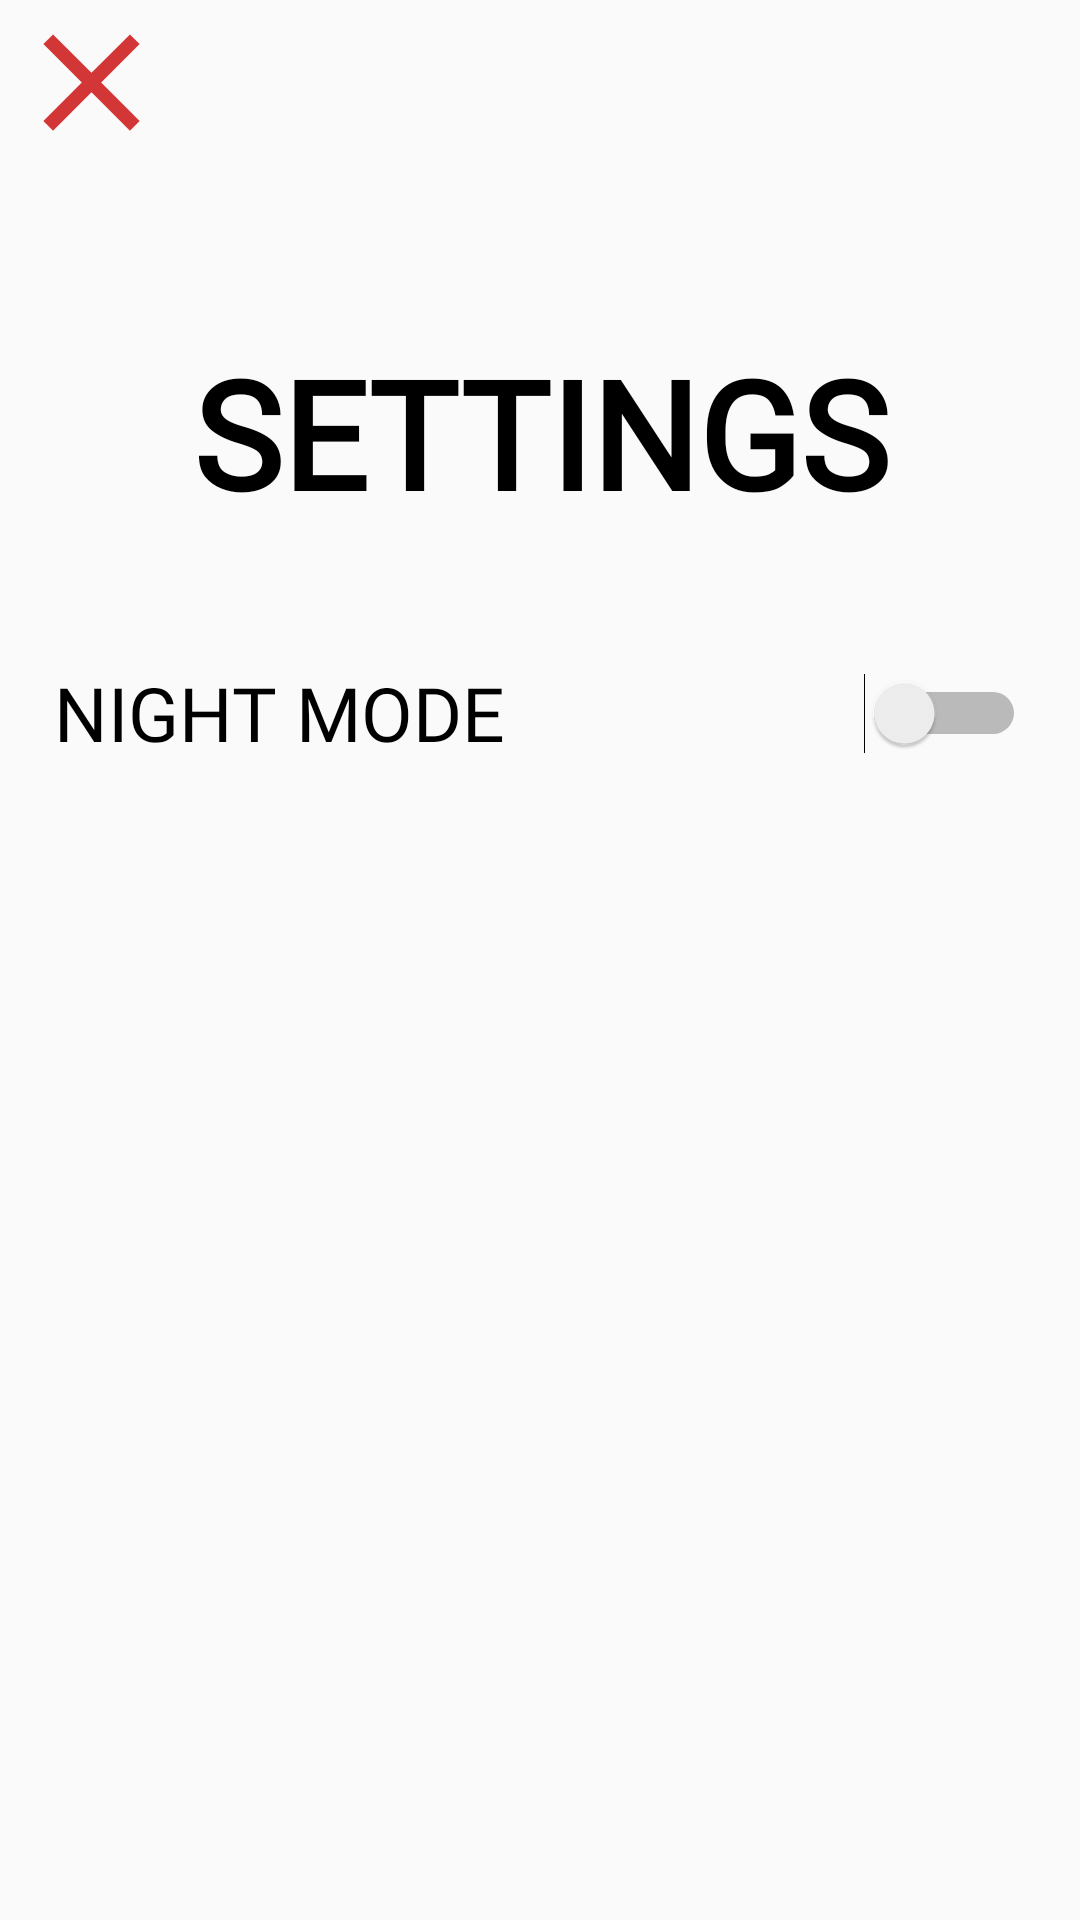

Icons on this 1080px x 1920px Android screen, each with the point to tap as [x,y]:
close: [91,82]
